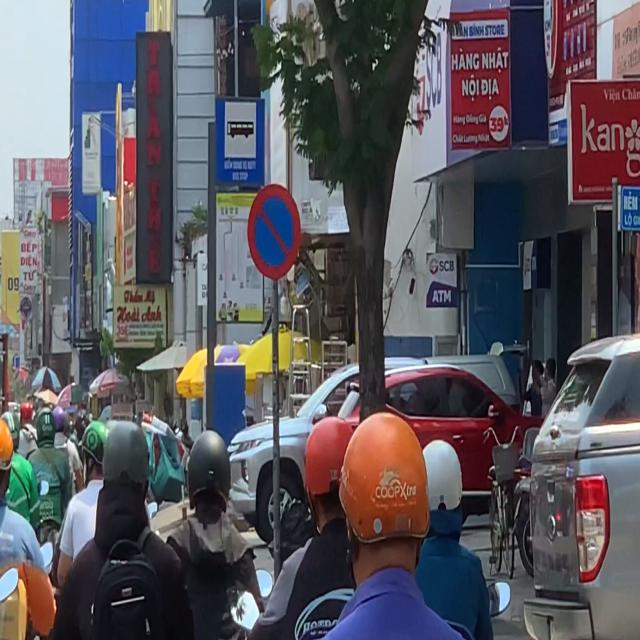Ben xe buyt: (222, 98, 260, 184)
Cam do: (247, 183, 301, 280)
